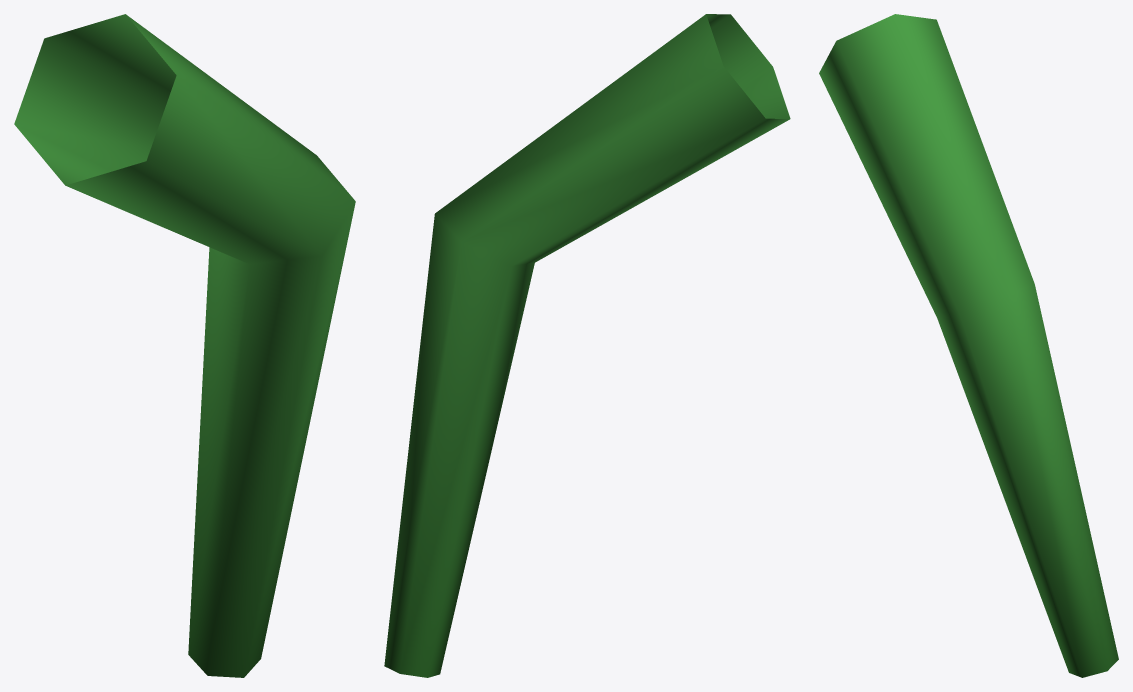
The model's file is Kameleon_Leg1.fbx.
The picture shows the model from 3 angles, left to right: view 1: azimuth 30°, elevation 25°; view 2: azimuth 150°, elevation 25°; view 3: azimuth 270°, elevation 25°; orthographic projection. The views are drawn at different scales.
Parts seen in each view (by area): view 1: Kameleon_Leg1; view 2: Kameleon_Leg1; view 3: Kameleon_Leg1.
Boxes of the visible parts, x1=… form: Kameleon_Leg1: x1=14, y1=14, x2=355, y2=677; Kameleon_Leg1: x1=384, y1=14, x2=790, y2=677; Kameleon_Leg1: x1=819, y1=14, x2=1118, y2=677.
Bounding box in the file's own units: 0.4195 × 0.8816 × 0.4164.
